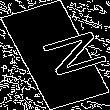N_W: (14, 27, 96, 83)
